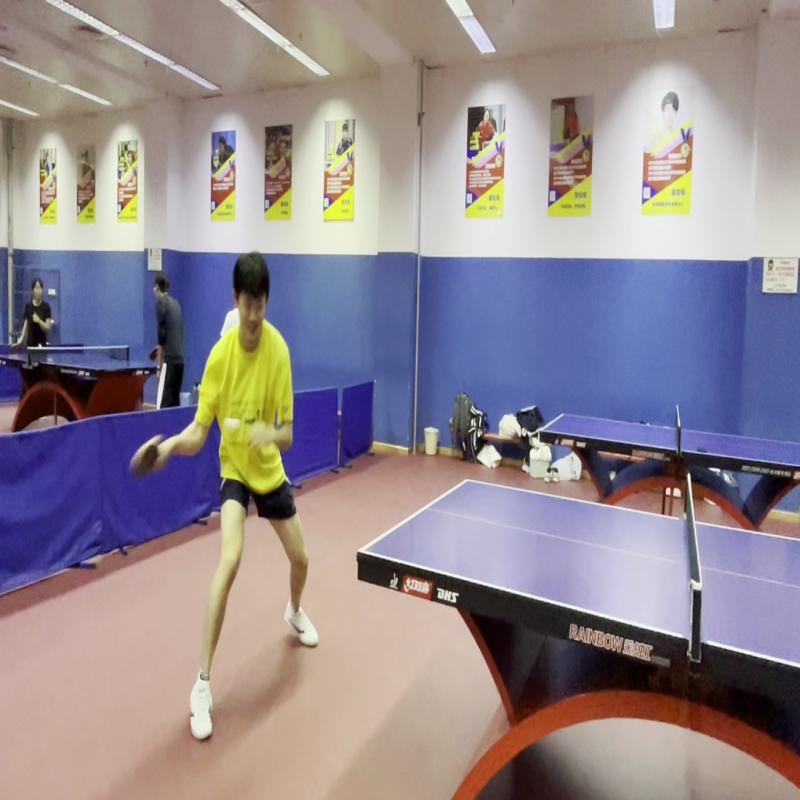bats: (127, 426, 160, 484)
